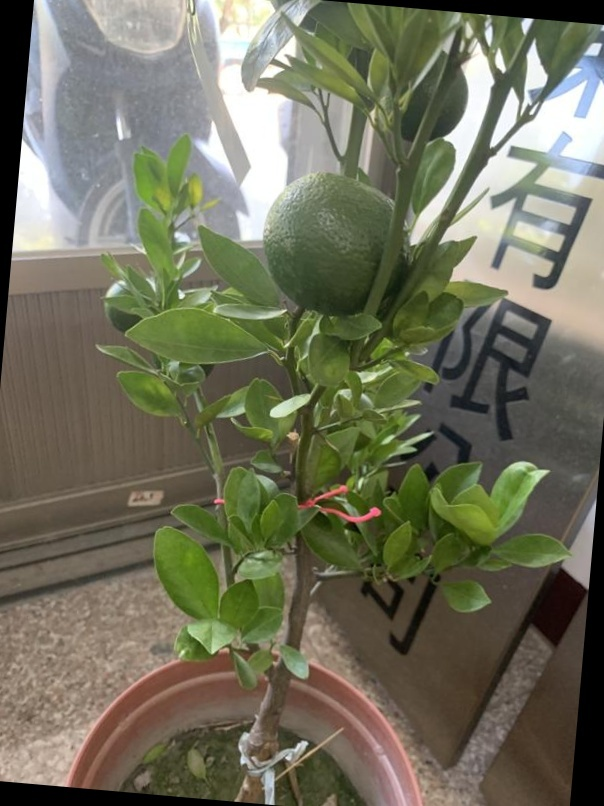Tangerine: (262, 174, 413, 312)
